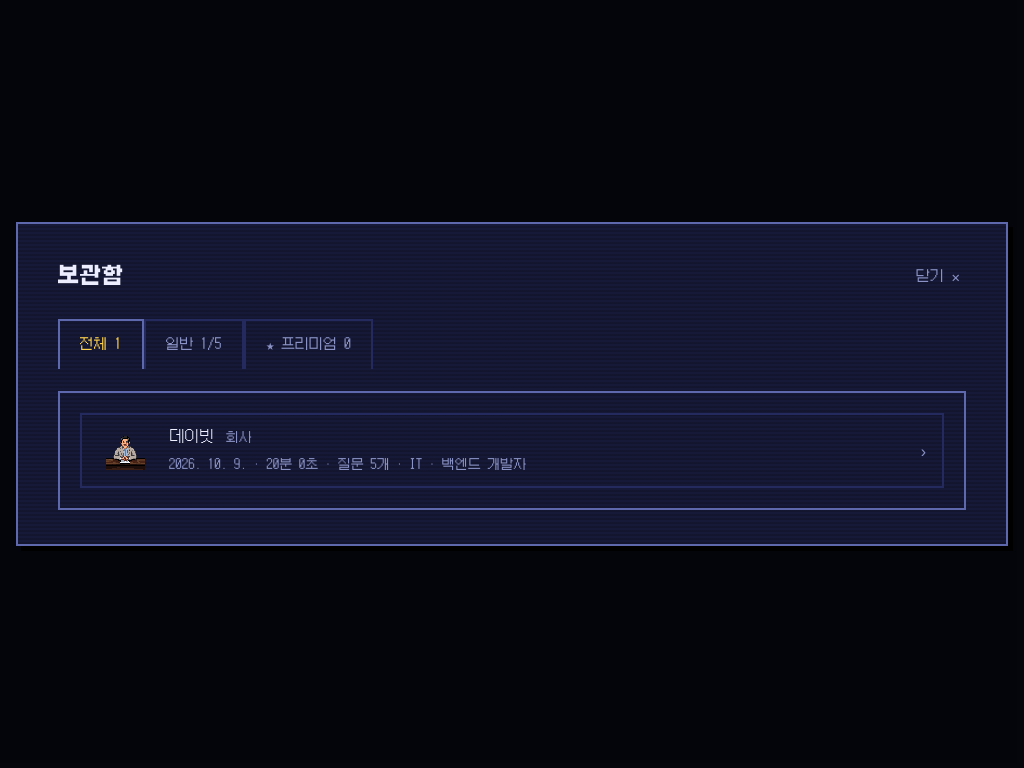
Test: ArchiveModal — 상세 › 줄을 누르면 상세로 갈아 낀다 — 모달은 하나다
The width and height of the screenshot is (1024, 768).
What coordinates should you click on to do the following:
click the button with test id "archive-row"
I would click on:
 (126, 451)
Its box is 80,413 -> 944,488.
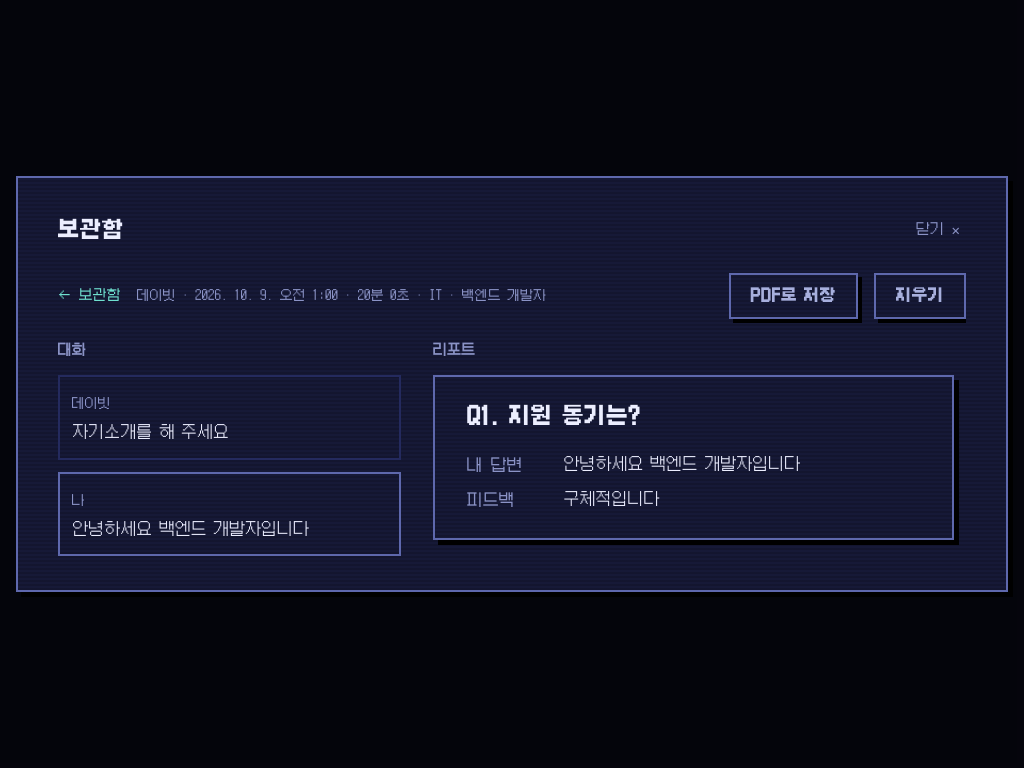
Expected: the number of dialogs with test id "modal" is 1, 16,176 -> 1008,592
Expected: the element with test id "archive-detail" is shown, 58,273 -> 966,556
Expected: no buttons with test id "archive-row" are shown
